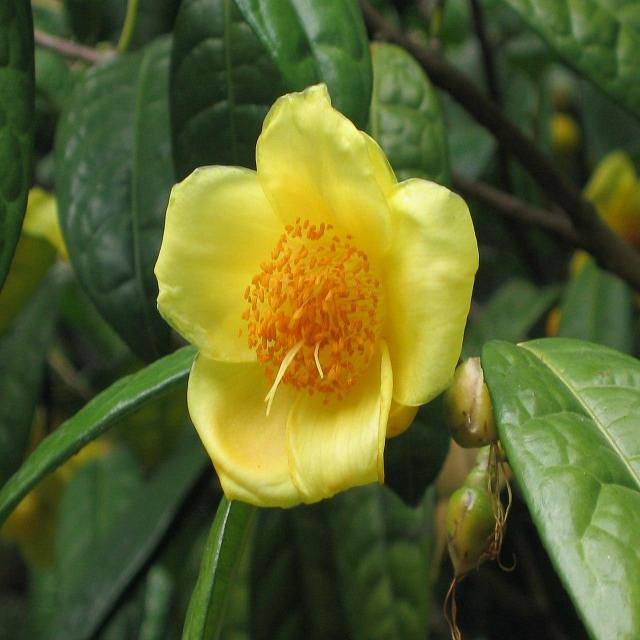organic waste: (159, 92, 499, 498)
